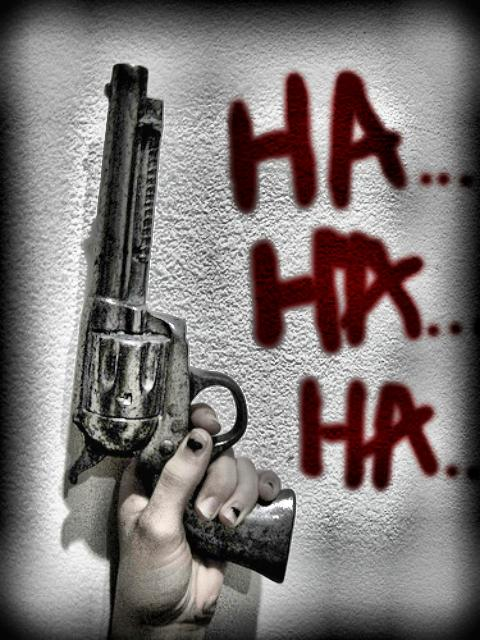pistol: (66, 60, 294, 582)
